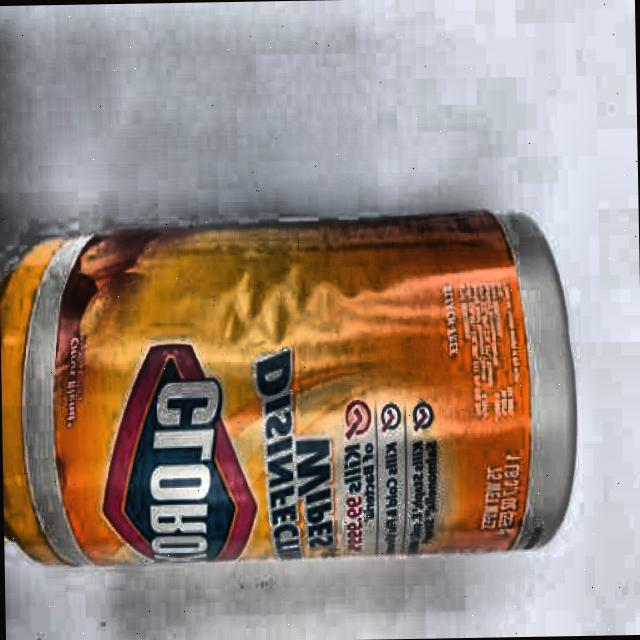plastic: (0, 211, 581, 573)
